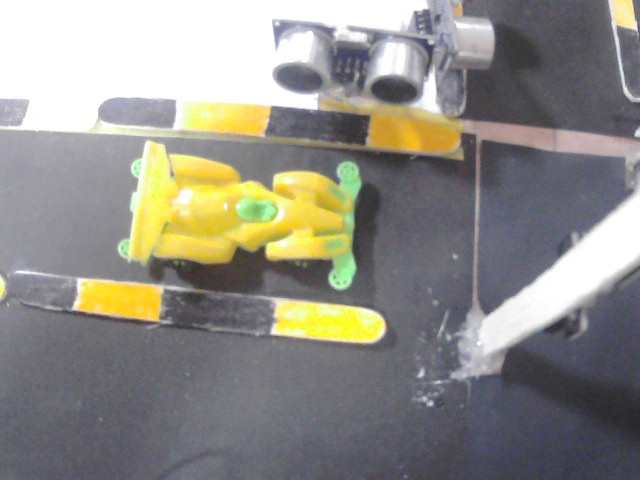car: (117, 134, 376, 289)
uno_breadboard: (268, 12, 429, 106), (429, 2, 496, 116)
